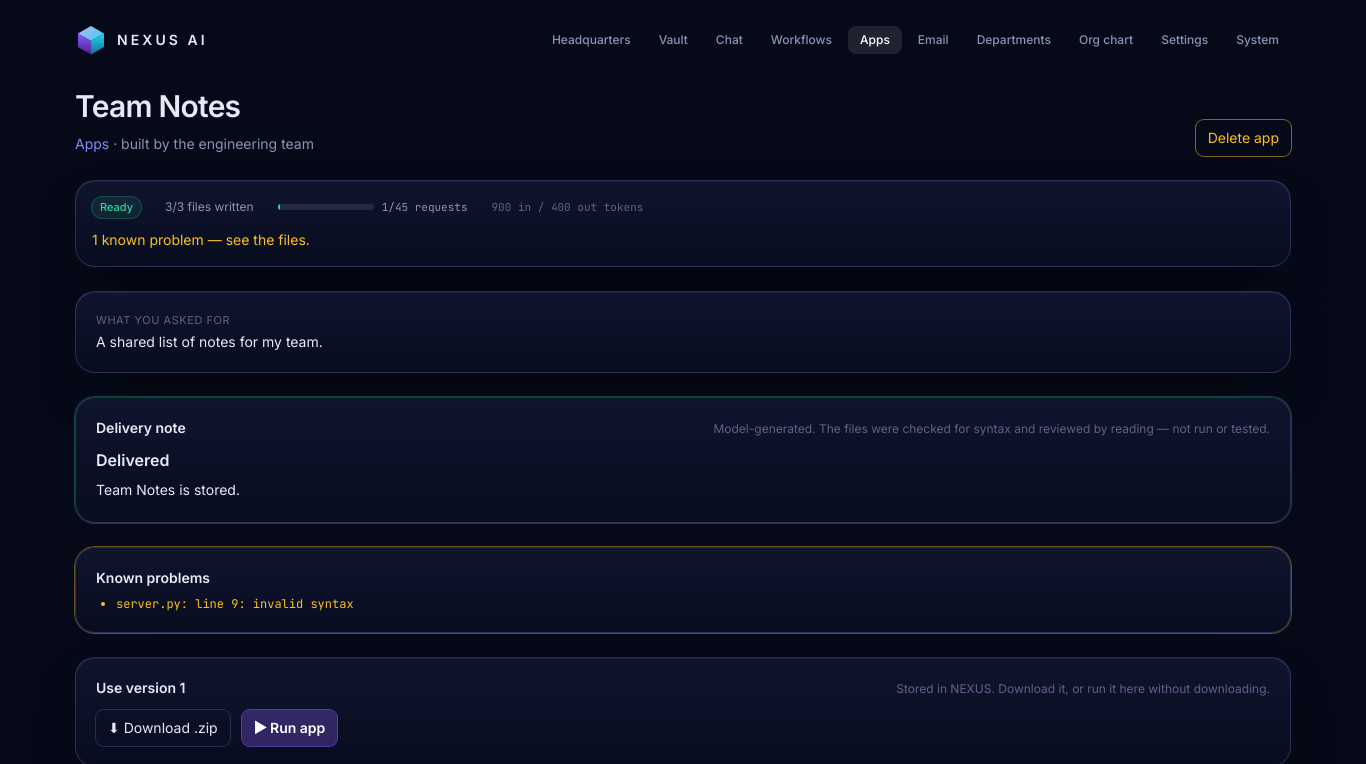
Test: AppDetailPage › runs a version only after the owner approves it, showing the packages and the sandbox rules
The image size is (1366, 764).
Click the button "▶ Run app".
click(290, 728)  # box [242, 710, 337, 746]
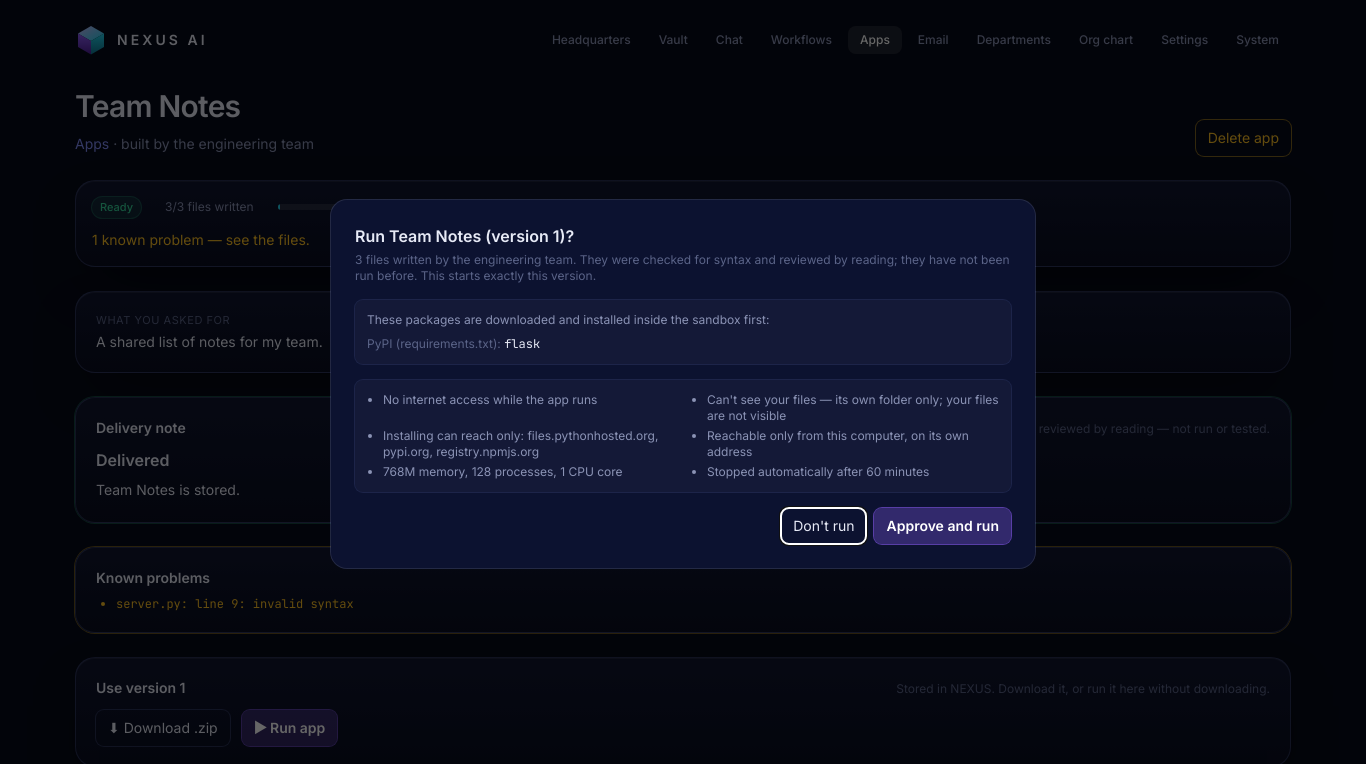
Expected: the dialog with test id "app-run-dialog" shows "Run Team Notes (version 1)?", [331, 200, 1035, 568]
Expected: the dialog with test id "app-run-dialog" shows "PyPI (requirements.txt): flask", [331, 200, 1035, 568]
Expected: the dialog with test id "app-run-dialog" shows "No internet access while the app runs", [383, 392, 597, 407]
Click the button "Approve and run".
click(943, 526)  # box [874, 508, 1011, 544]
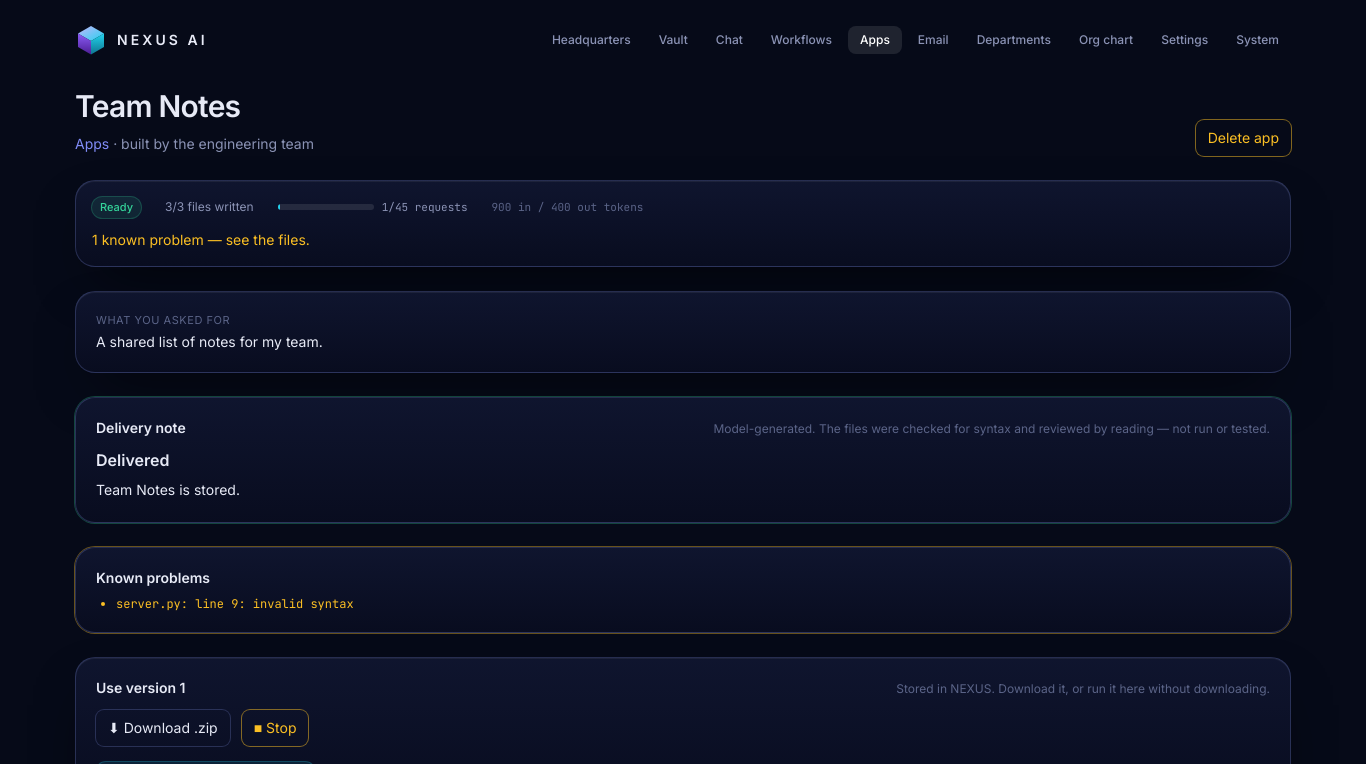
Expected: the button "■ Stop" is shown, [242, 710, 308, 746]
